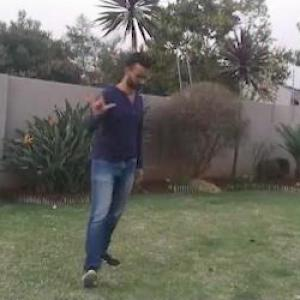land_hand: (83, 85, 115, 118)
